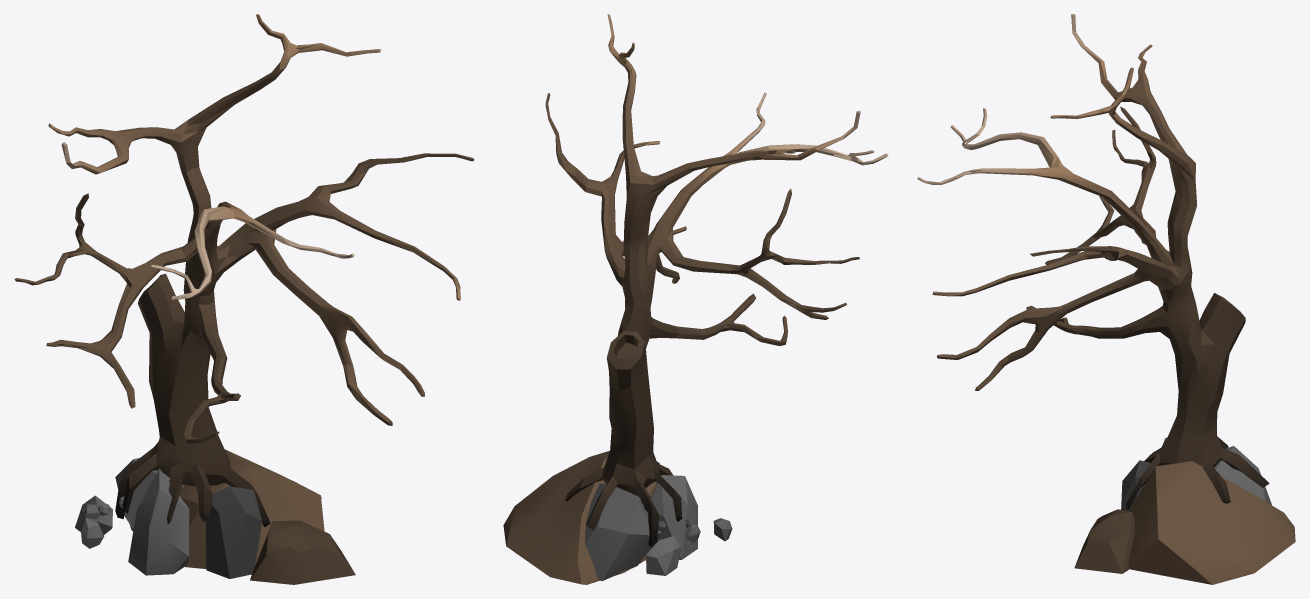
Rendered from ea03_environment_nature_tree_1b_pre_6.003_lev2.glb.
The picture shows the model from 3 angles, left to right: view 1: azimuth 30°, elevation 25°; view 2: azimuth 150°, elevation 25°; view 3: azimuth 270°, elevation 25°; orthographic projection. The views are drawn at different scales.
Visible parts, largest first — view 1: ea03_environment_nature_tree_1b_pre_6.003_lev2; view 2: ea03_environment_nature_tree_1b_pre_6.003_lev2; view 3: ea03_environment_nature_tree_1b_pre_6.003_lev2.
Part boxes in pixels (x1,y1,x2,y2): ea03_environment_nature_tree_1b_pre_6.003_lev2: [14, 14, 474, 584]; ea03_environment_nature_tree_1b_pre_6.003_lev2: [503, 14, 888, 584]; ea03_environment_nature_tree_1b_pre_6.003_lev2: [917, 14, 1295, 584].
Size of the model in its own units: 20.55 by 26.36 by 19.1.
Materials: 1 (1 with a texture image).
